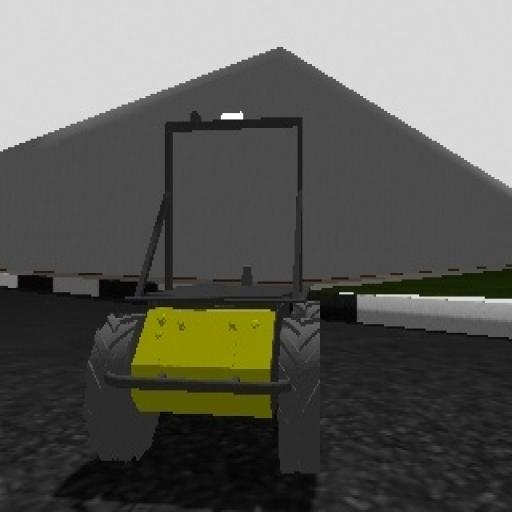huskya200: (82, 102, 334, 493)
